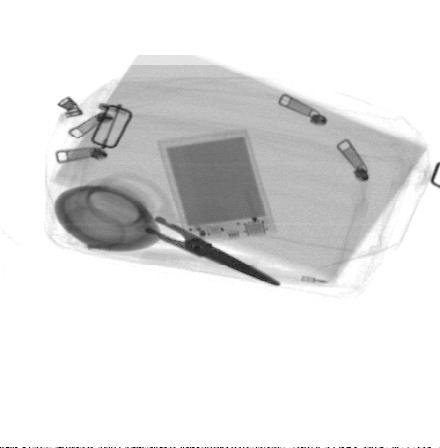Powerbank: (158, 128, 282, 246)
Scissors: (66, 171, 292, 290)
